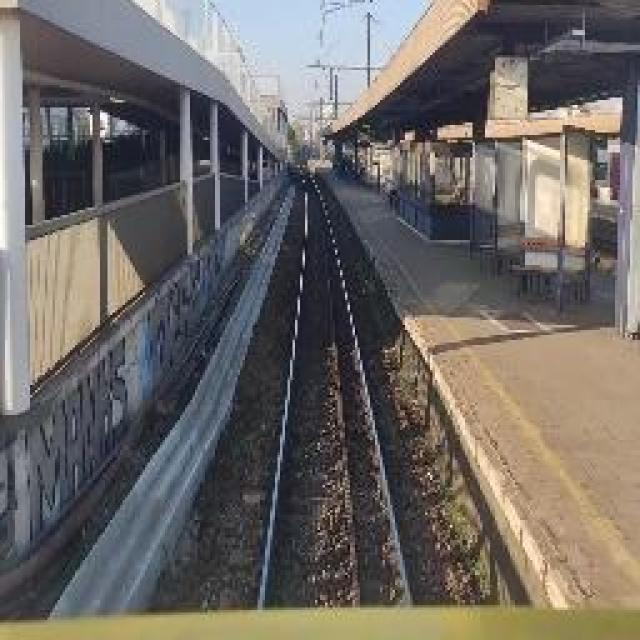rail: (222, 161, 462, 608)
